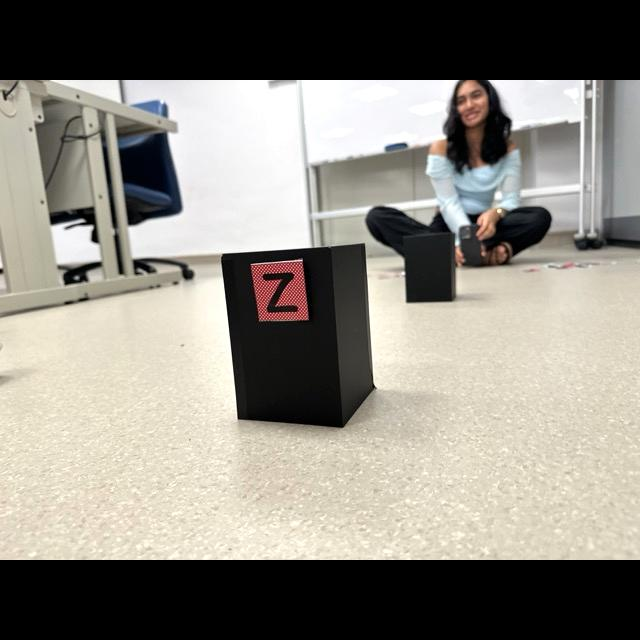Z: (262, 273, 298, 313)
